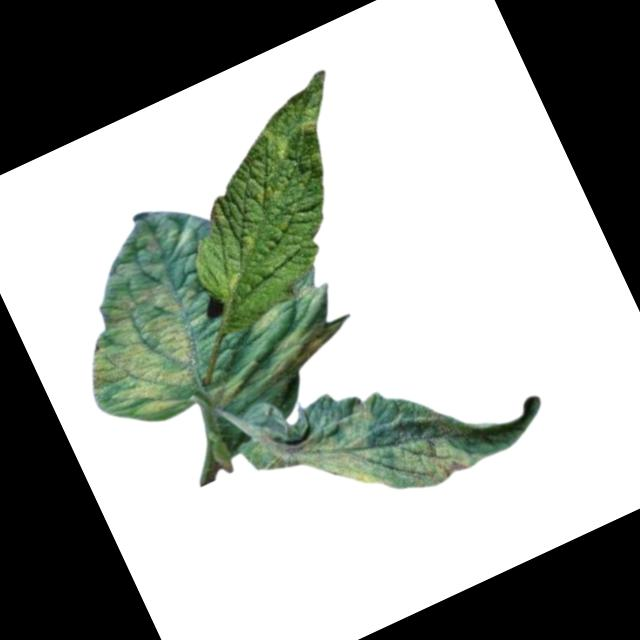Leaf_Mold: (245, 351, 485, 549), (33, 221, 219, 444), (234, 277, 357, 387), (251, 96, 331, 165)
